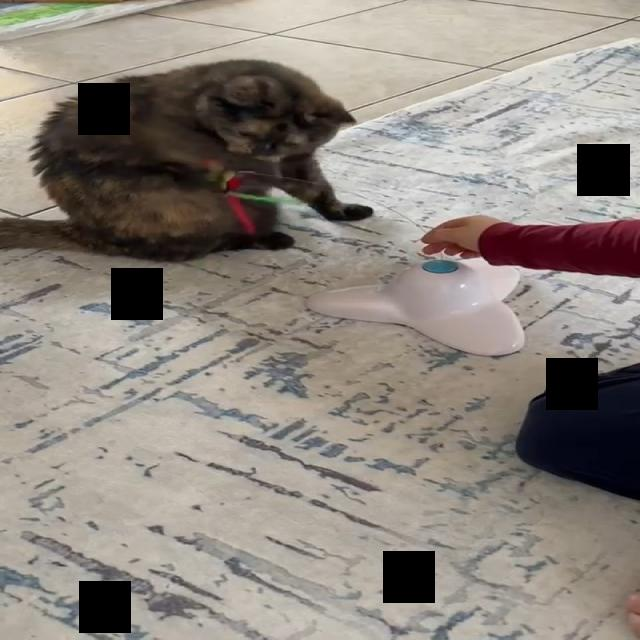authorized: (0, 57, 373, 262)
